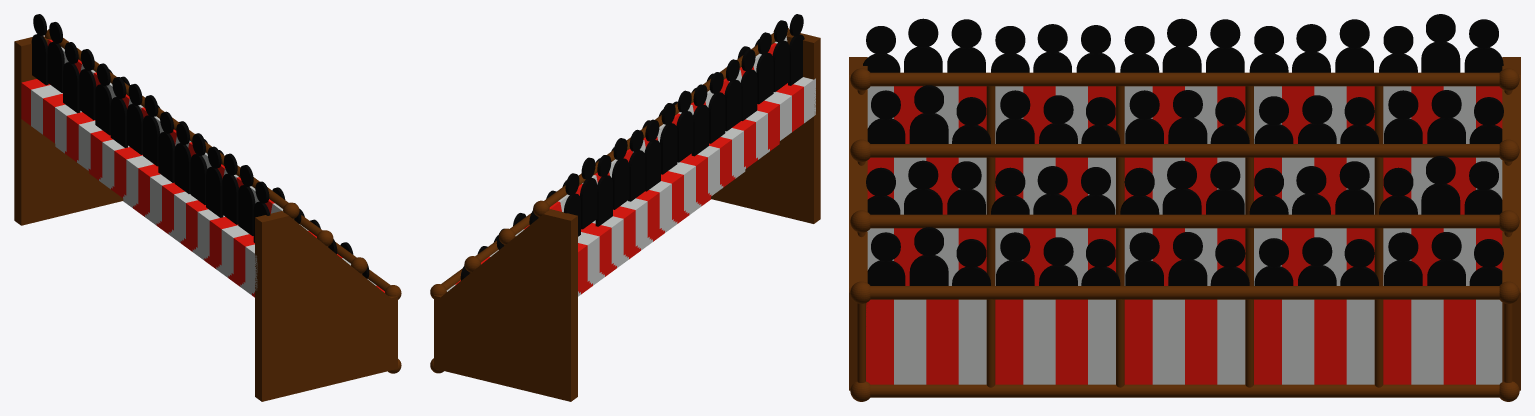
Rendered from PLATEIA VERMELHO.fbx.
The picture shows the model from 3 angles, left to right: view 1: azimuth 30°, elevation 25°; view 2: azimuth 150°, elevation 25°; view 3: azimuth 270°, elevation 25°; orthographic projection. The views are drawn at different scales.
Parts seen in each view (by area): view 1: Cube.001, STAND.003, Cube.002, WOOD PILLARS.003, Circle.042, Circle.040, Circle.037, Circle.038, Circle.039, Circle.044, PÚBLICO 2.006, Circle.045 (+13 smaller); view 2: Cube.002, STAND.003, Cube.001, WOOD PILLARS.003, Circle.042, Circle.043, Circle.045, Circle.047, Circle.044, PÚBLICO 2.006, Circle.037, Circle.046 (+13 smaller); view 3: STAND, WOOD PILLARS, STAND.003, STAND.001, STAND.002, WOOD PILLARS.001, WOOD PILLARS.003, WOOD PILLARS.002, Cube.002, Cube.001, Circle.021, Circle.045 (+58 smaller).
Part boxes in pixels (box(x1,y1,x2,y2)): Cube.001: box(255, 211, 397, 401); STAND.003: box(21, 39, 282, 290); Cube.002: box(14, 36, 123, 225); WOOD PILLARS.003: box(44, 29, 299, 219); Circle.042: box(79, 49, 96, 120); Circle.040: box(63, 42, 80, 113); Circle.037: box(206, 146, 223, 217); Circle.038: box(158, 111, 175, 182); Circle.039: box(110, 77, 127, 147); Circle.044: box(174, 123, 191, 193); PÚBLICO 2.006: box(222, 153, 238, 224); Circle.045: box(47, 22, 64, 92); Cube.002: box(434, 209, 577, 401); STAND.003: box(549, 36, 815, 288); Cube.001: box(711, 33, 820, 223); WOOD PILLARS.003: box(533, 28, 790, 217); Circle.042: box(612, 138, 629, 209); Circle.043: box(660, 103, 677, 174); Circle.045: box(580, 157, 597, 229); Circle.047: box(676, 90, 693, 162); Circle.044: box(708, 72, 725, 143); PÚBLICO 2.006: box(756, 32, 773, 104); Circle.037: box(740, 49, 757, 120); Circle.046: box(628, 129, 645, 201); STAND: box(866, 299, 1502, 384); WOOD PILLARS: box(850, 281, 1519, 401); STAND.003: box(867, 86, 1502, 143); STAND.001: box(867, 228, 1502, 285); STAND.002: box(867, 157, 1502, 214); WOOD PILLARS.001: box(850, 210, 1519, 285); WOOD PILLARS.003: box(850, 68, 1519, 143); WOOD PILLARS.002: box(850, 139, 1519, 214); Cube.002: box(1502, 57, 1520, 390); Cube.001: box(849, 57, 867, 390); Circle.021: box(1421, 156, 1460, 214); Circle.045: box(1421, 14, 1460, 72).
Size of the model in its own units: 327 by 490 by 981.
